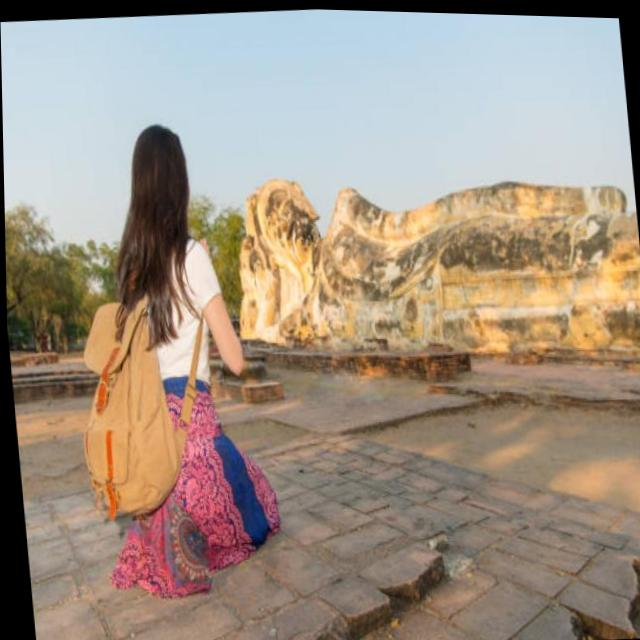no helmet: (122, 110, 194, 225)
